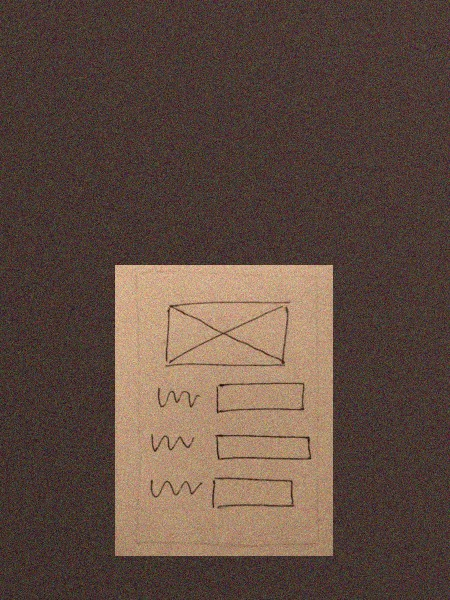image: (160, 297, 294, 370)
text: (150, 384, 208, 414), (143, 475, 204, 503), (148, 429, 202, 456)
text_input: (208, 474, 300, 516), (212, 430, 315, 464), (212, 378, 309, 414)
